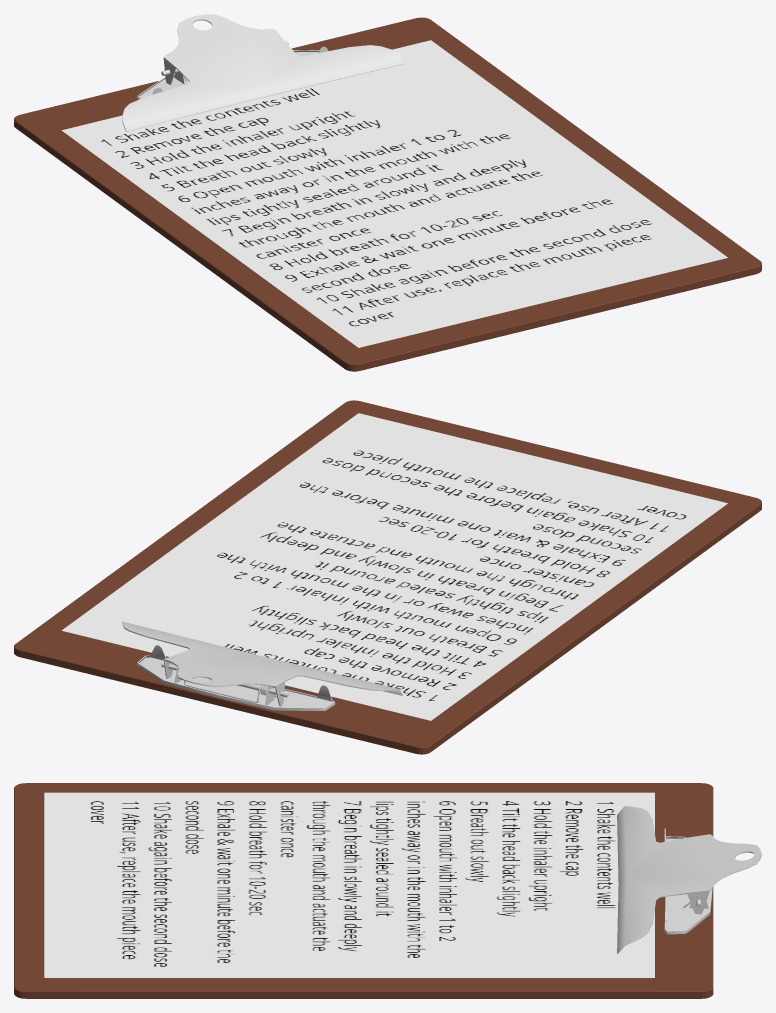
File: clipboard.glb
3 renders of one model, top to bottom at view 1: azimuth 30°, elevation 25°; view 2: azimuth 150°, elevation 25°; view 3: azimuth 270°, elevation 25°, orthographic. The views are drawn at different scales.
Visible parts, largest first — view 1: page.001, board_1.001; view 2: page.001, board_1.001; view 3: page.001, board_1.001.
Boxes of the visible parts, x1=… form: page.001: x1=61, y1=40, x2=727, y2=347; board_1.001: x1=14, y1=14, x2=761, y2=371; page.001: x1=61, y1=413, x2=727, y2=720; board_1.001: x1=14, y1=400, x2=761, y2=754; page.001: x1=44, y1=792, x2=654, y2=977; board_1.001: x1=14, y1=783, x2=761, y2=998.
Bounding box in the file's own units: 0.8912 × 0.0826 × 1.35.
3 materials, 1 textured.
